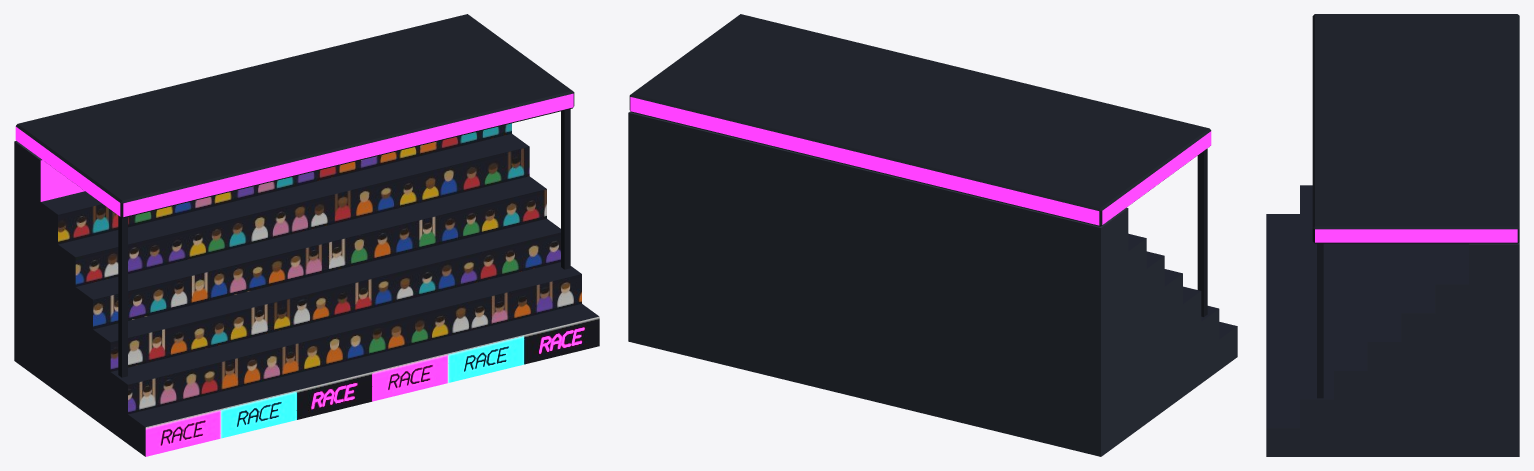
The model's file is stand.glb.
3 views of the same model, side by side, from view 1: azimuth 30°, elevation 25°; view 2: azimuth 150°, elevation 25°; view 3: azimuth 270°, elevation 25° (orthographic). The views are drawn at different scales.
Parts seen in each view (by area): view 1: stand; view 2: stand; view 3: stand.
Boxes of the visible parts, x1,y1,x2,y2 form: stand: [14, 14, 599, 456]; stand: [628, 14, 1237, 456]; stand: [1266, 14, 1519, 456].
Bounding box in the file's own units: 12 × 6 × 6.
1 material, 1 textured.
